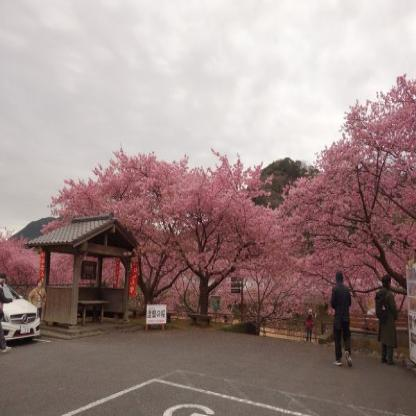KawazuSakura: (265, 62, 416, 328), (56, 136, 297, 287), (0, 225, 119, 288)
